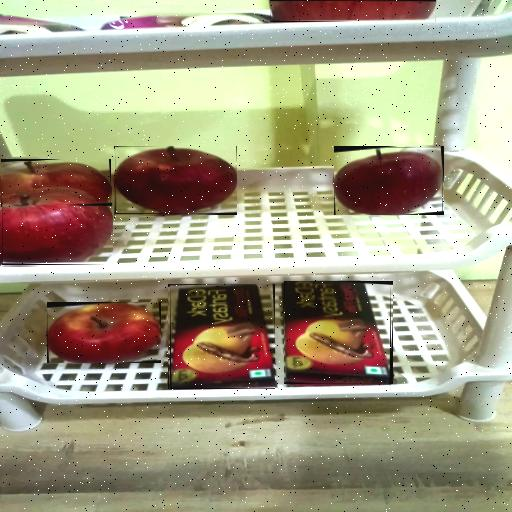Apple: (2, 186, 112, 265), (115, 146, 236, 214), (334, 148, 442, 215), (47, 302, 161, 363), (1, 161, 111, 203)
Choco Fills: (171, 284, 275, 388), (286, 281, 389, 384)
Choco Pie: (270, 1, 435, 20)
